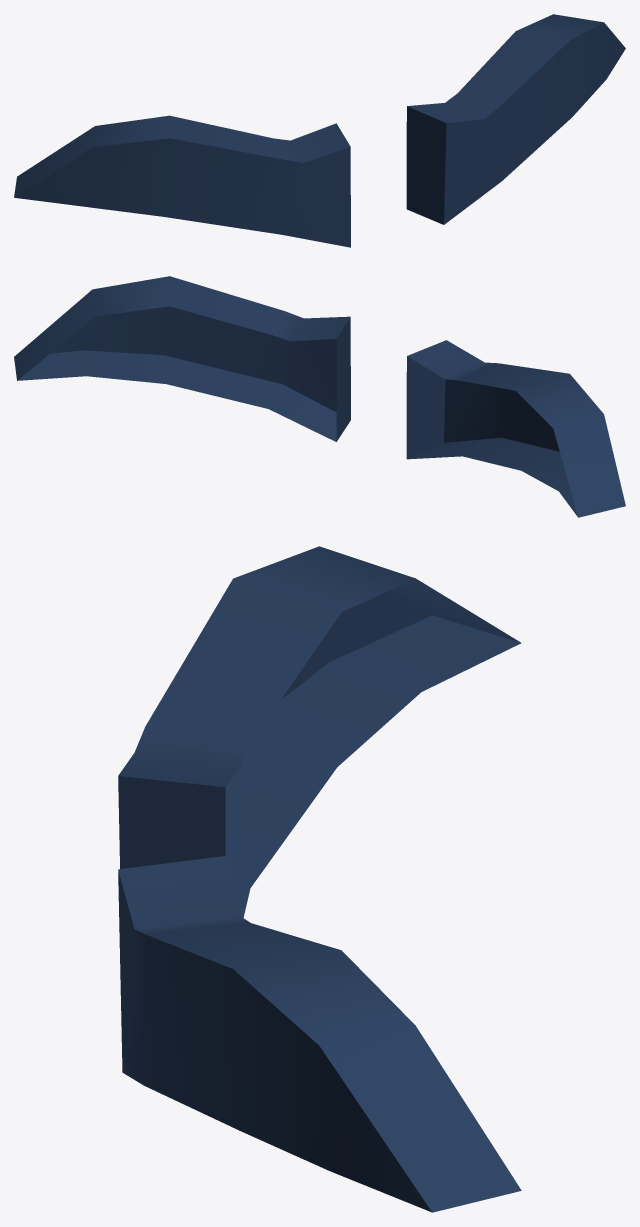
Rendered from Brow_Blue_5.fbx.
3 views of the same model, one above another, from view 1: azimuth 30°, elevation 25°; view 2: azimuth 150°, elevation 25°; view 3: azimuth 270°, elevation 25° (orthographic). The views are drawn at different scales.
Parts seen in each view (by area): view 1: Brow_Blue_5; view 2: Brow_Blue_5; view 3: Brow_Blue_5.
Part boxes in pixels (x1,y1,x2,y2): Brow_Blue_5: (14,14,625,247); Brow_Blue_5: (14,276,625,517); Brow_Blue_5: (118,546,521,1212).
Bounding box in the file's own units: 41.99 × 8.34 × 11.99.
